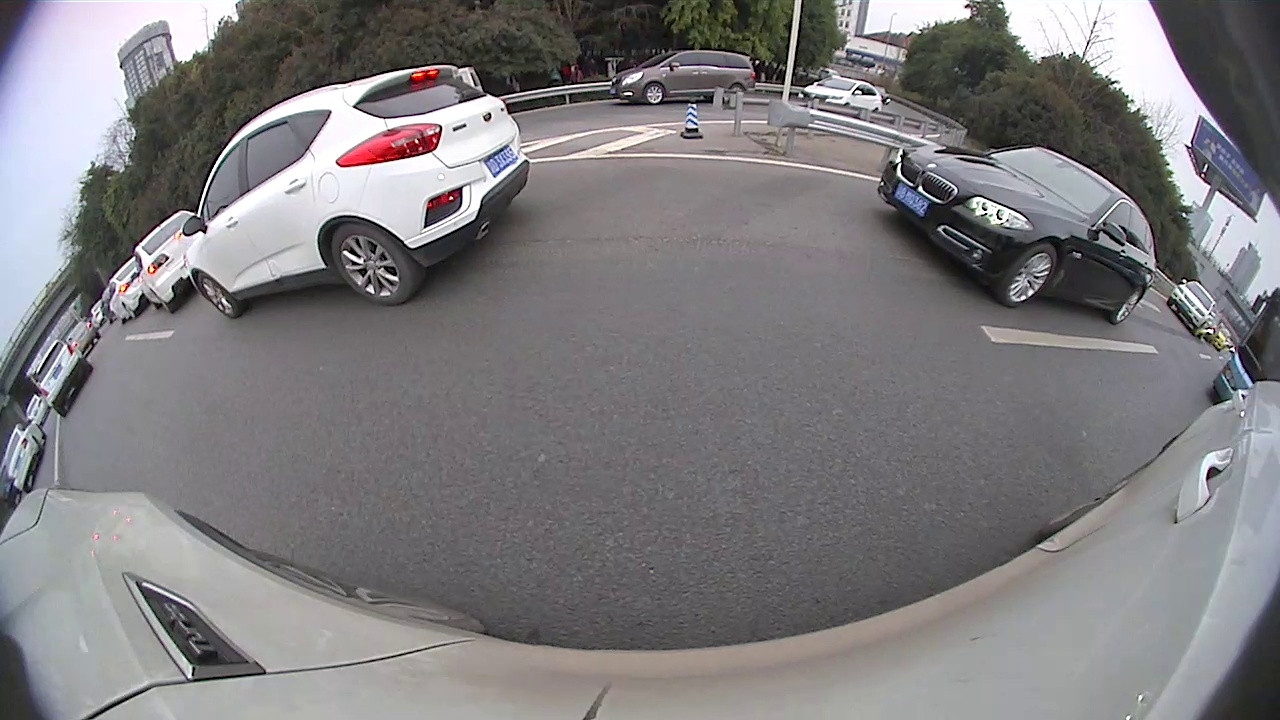car: (182, 59, 529, 317), (876, 143, 1159, 326), (607, 47, 757, 105), (133, 206, 206, 313), (26, 333, 95, 417), (1, 417, 51, 495), (797, 72, 886, 114), (104, 258, 150, 325), (1168, 271, 1215, 336)
front: (997, 238, 1060, 310), (196, 270, 245, 321), (642, 80, 667, 107)
rear: (327, 222, 426, 307), (1108, 285, 1144, 326)
